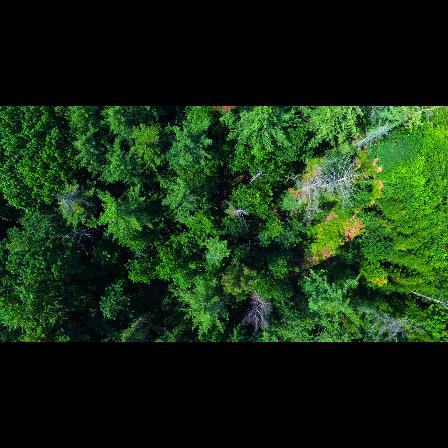Dead: (353, 302, 427, 342), (320, 159, 372, 206), (285, 171, 328, 226), (241, 286, 275, 334), (225, 203, 259, 228)
